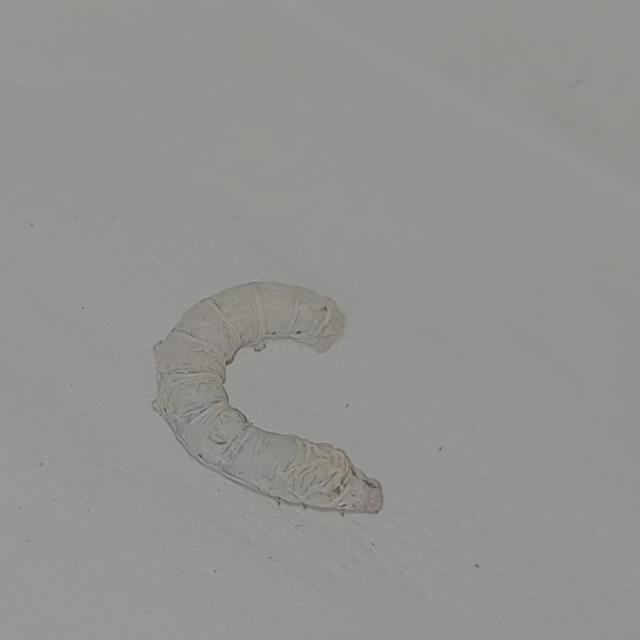Healthy: (138, 268, 402, 530)
